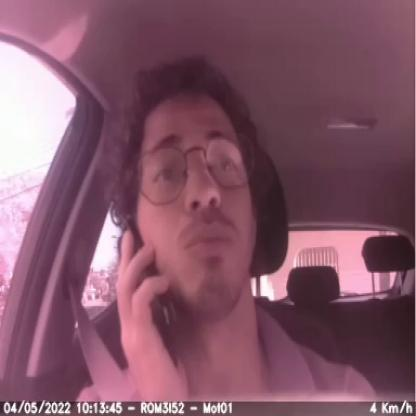phone: (116, 217, 185, 369)
